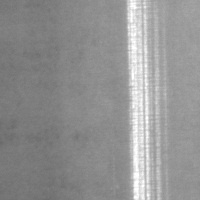scratches: (123, 1, 168, 200)
